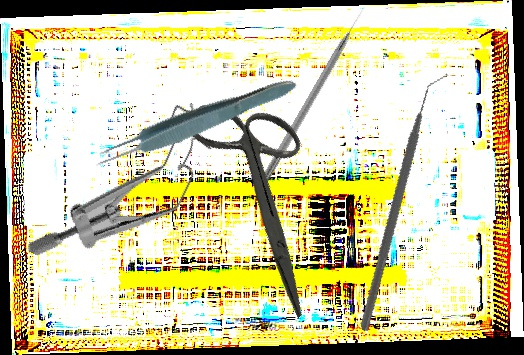Chopper: (297, 71, 514, 334)
Hook Surgical: (259, 4, 370, 185)
Iris Scissors: (134, 73, 390, 320)
Speculum: (23, 65, 229, 306)
Tissue Forceps: (88, 70, 301, 174)
